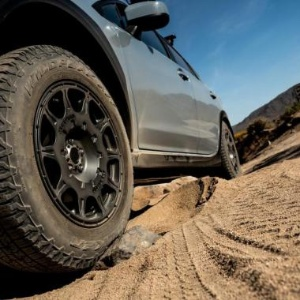train: (2, 42, 138, 266), (204, 120, 241, 179)
